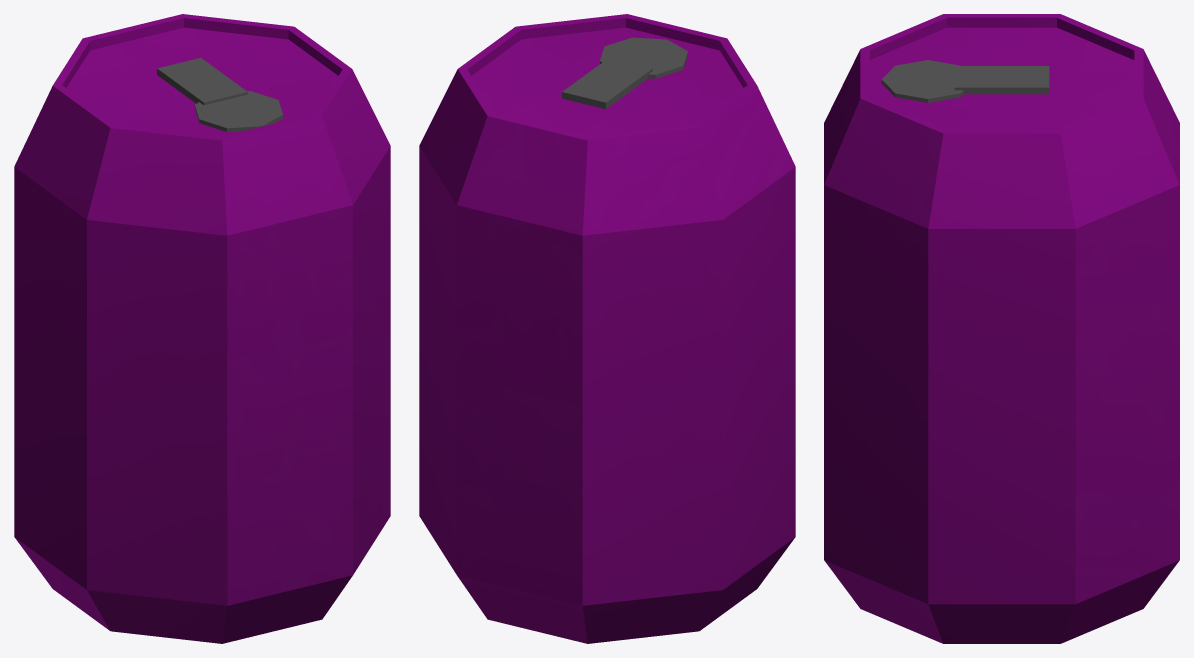
Rendered from Bottle_violet_1.fbx.
The picture shows the model from 3 angles, left to right: view 1: azimuth 30°, elevation 25°; view 2: azimuth 150°, elevation 25°; view 3: azimuth 270°, elevation 25°; orthographic projection.
Parts seen in each view (by area): view 1: Bottle_violet; view 2: Bottle_violet; view 3: Bottle_violet.
Part boxes in pixels (left/top/right/bottom): Bottle_violet: left=14, top=14, right=390, bottom=643; Bottle_violet: left=419, top=14, right=795, bottom=643; Bottle_violet: left=824, top=14, right=1179, bottom=643.
Size of the model in its own units: 5.15 by 8.15 by 5.15.
